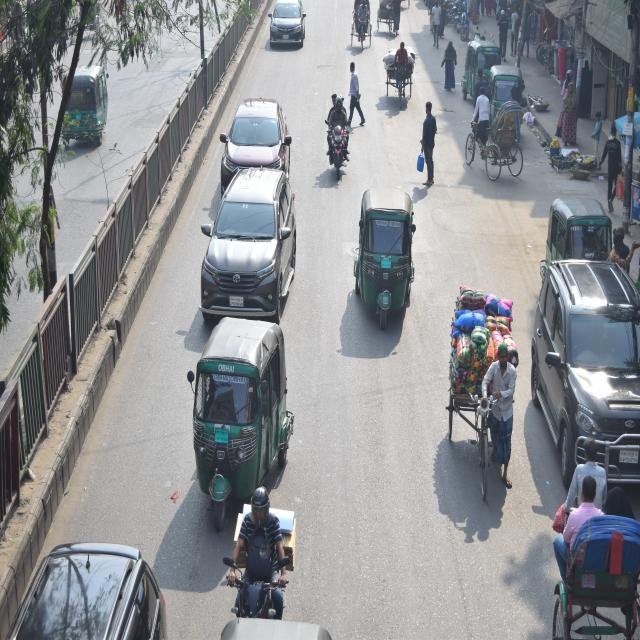car: (531, 252, 640, 486), (18, 534, 156, 640), (204, 169, 298, 307), (221, 96, 289, 175), (265, 0, 303, 53)
motorbike: (232, 552, 280, 632), (328, 113, 350, 177)
